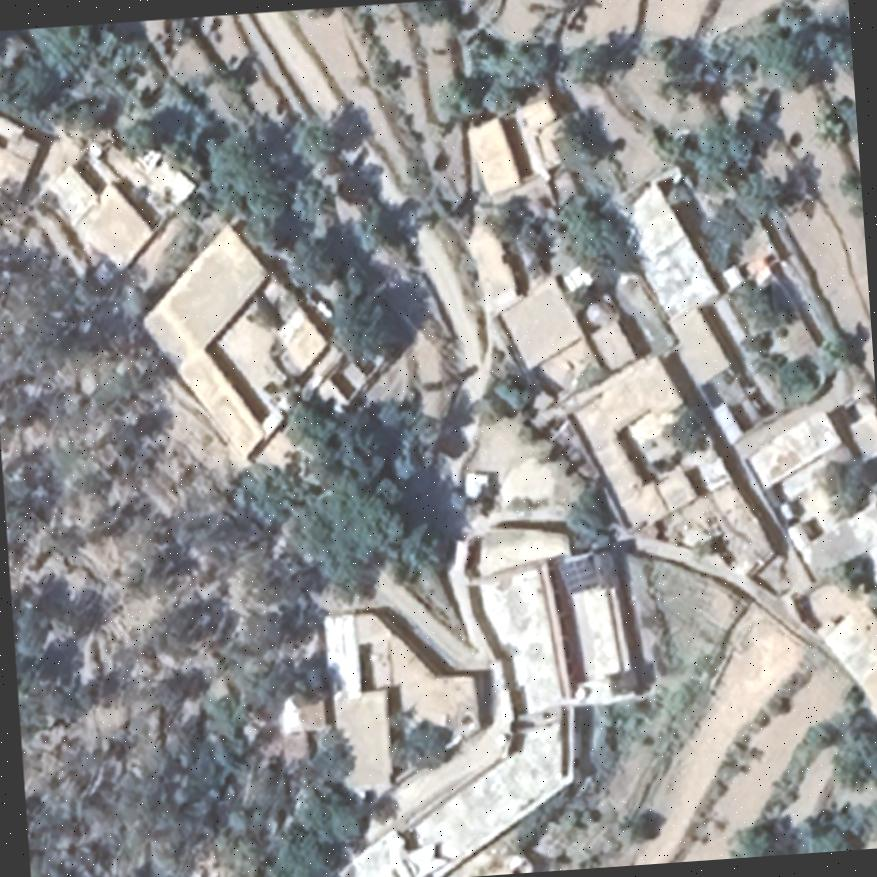Solarpanel: (554, 550, 600, 594)
